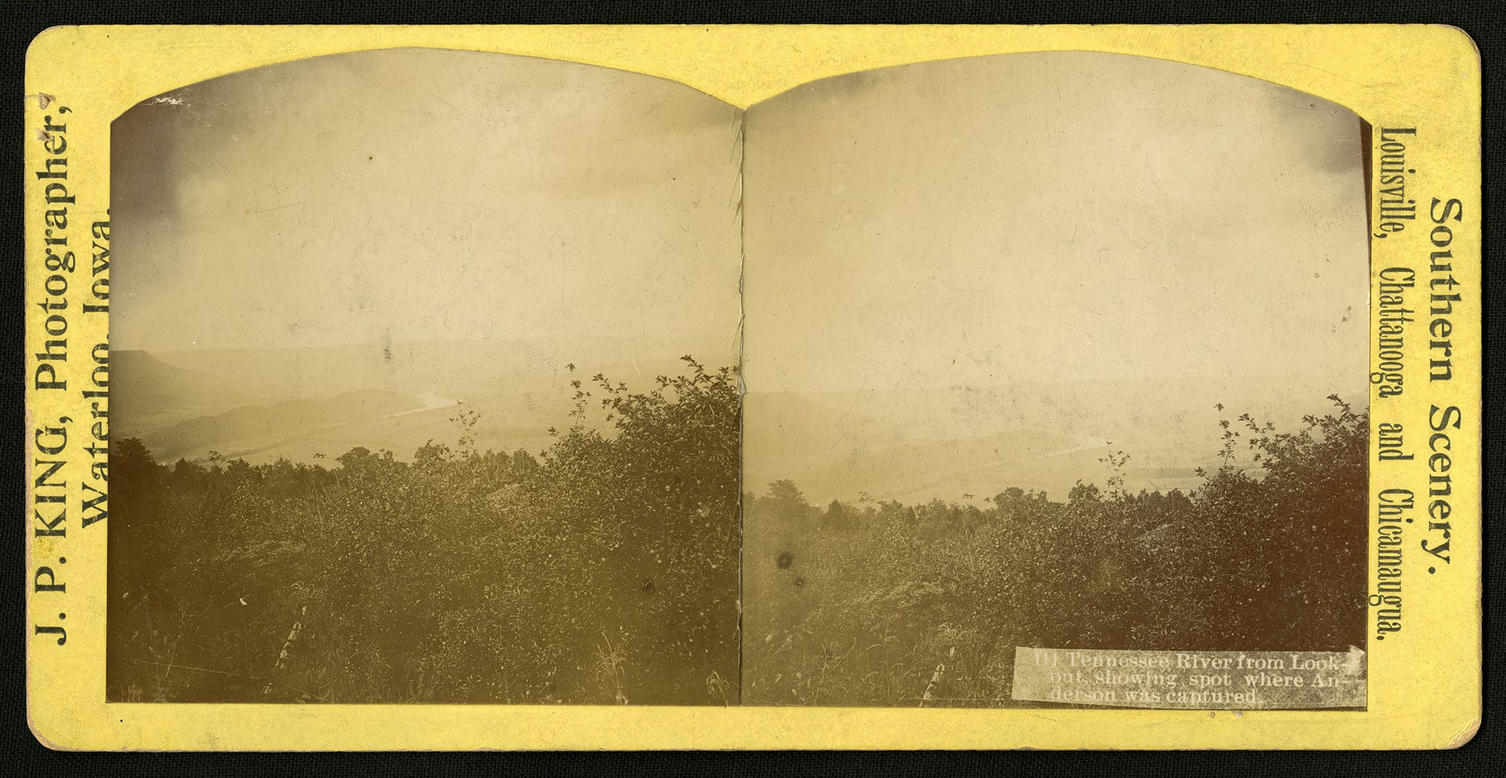half_image: (106, 47, 743, 705), (743, 51, 1374, 709)
